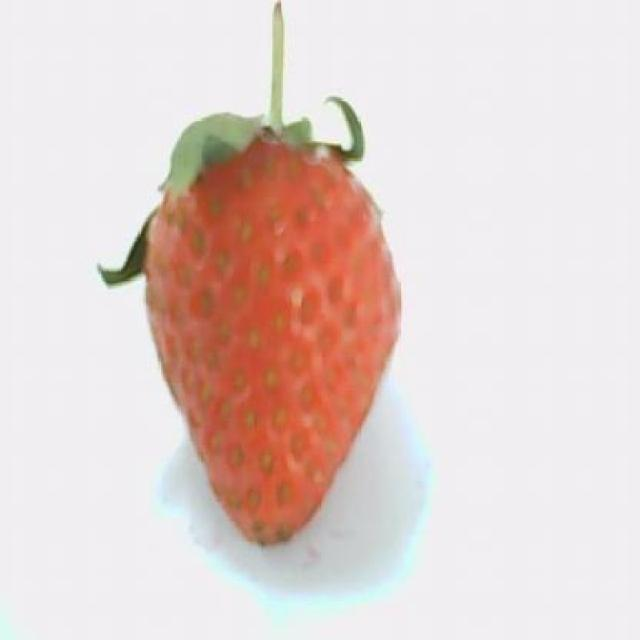strawberry: (99, 2, 400, 543)
